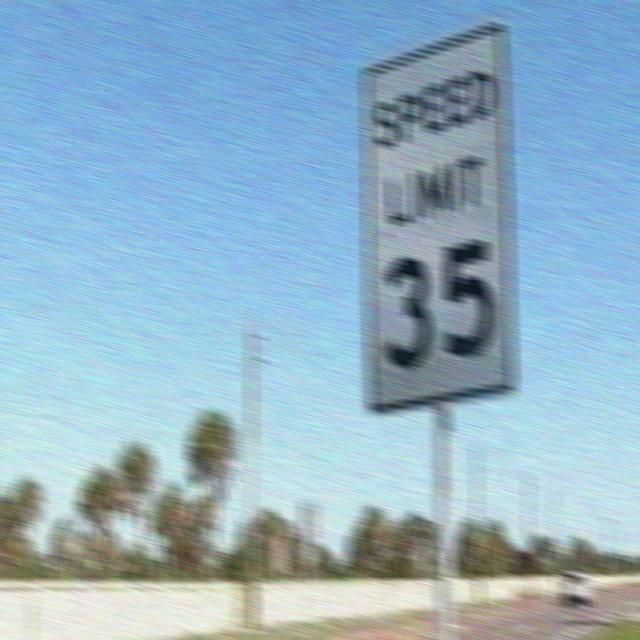speedLimit35: (355, 63, 515, 391)
